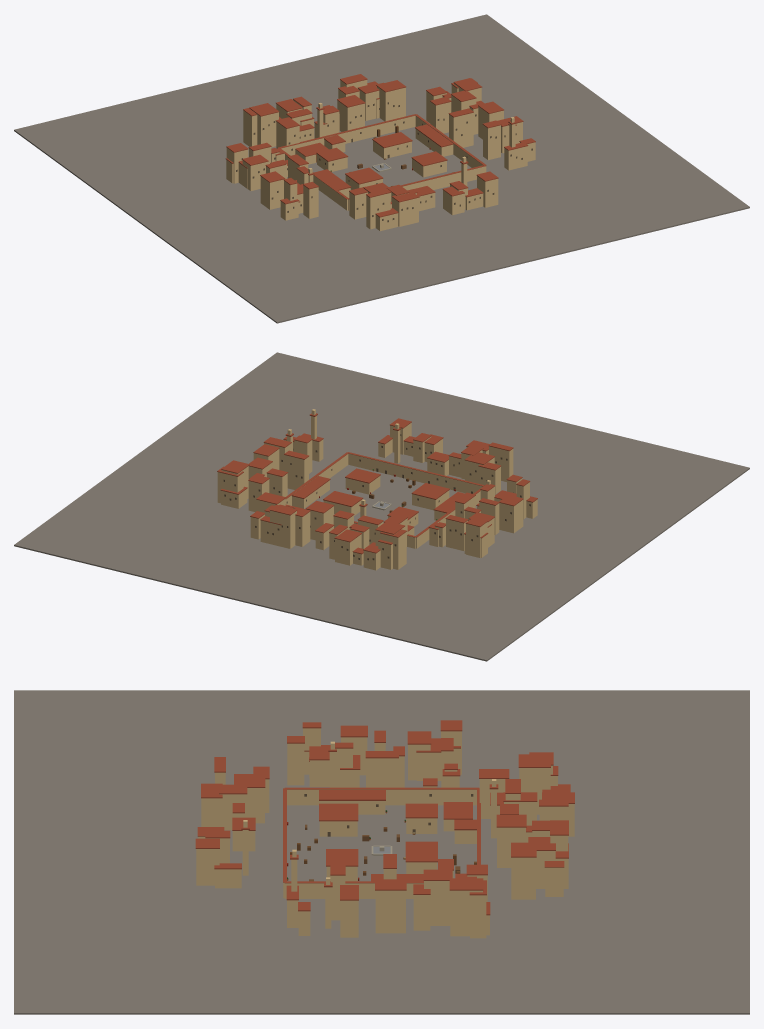
Rendered from cs_aq_italy.glb.
The picture shows the model from 3 angles, top to bottom: view 1: azimuth 30°, elevation 25°; view 2: azimuth 150°, elevation 25°; view 3: azimuth 270°, elevation 25°; orthographic projection. The views are drawn at different scales.
Visible parts, largest first — view 1: skyline, cs_aq_italy; view 2: skyline, cs_aq_italy; view 3: skyline, cs_aq_italy.
Part boxes in pixels (<box>): skyline: <box>14,14,749,323</box>; cs_aq_italy: <box>278,114,486,210</box>; skyline: <box>14,352,749,661</box>; cs_aq_italy: <box>285,452,484,548</box>; skyline: <box>14,690,749,1014</box>; cs_aq_italy: <box>283,787,480,898</box>.
Bounding box in the file's own units: 14096 × 1463 × 13584.
